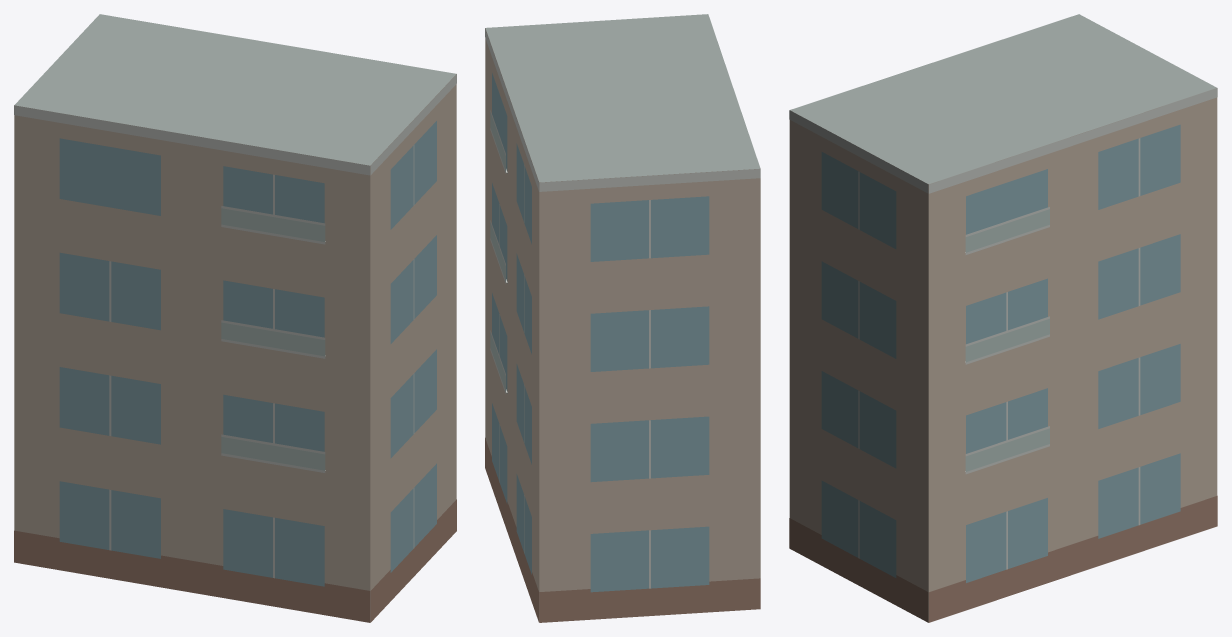
The model's file is survey-upis-32696413.glb.
The picture shows the model from 3 angles, left to right: view 1: azimuth 30°, elevation 25°; view 2: azimuth 150°, elevation 25°; view 3: azimuth 270°, elevation 25°; orthographic projection. The views are drawn at different scales.
Visible parts, largest first — view 1: survey-upis-32696413.tmp; view 2: survey-upis-32696413.tmp; view 3: survey-upis-32696413.tmp.
Part boxes in pixels (x1,y1,x2,y2): survey-upis-32696413.tmp: (14,14,456,622); survey-upis-32696413.tmp: (485,14,760,622); survey-upis-32696413.tmp: (789,14,1217,622).
Size of the model in its own units: 9.43 by 11.3 by 10.
